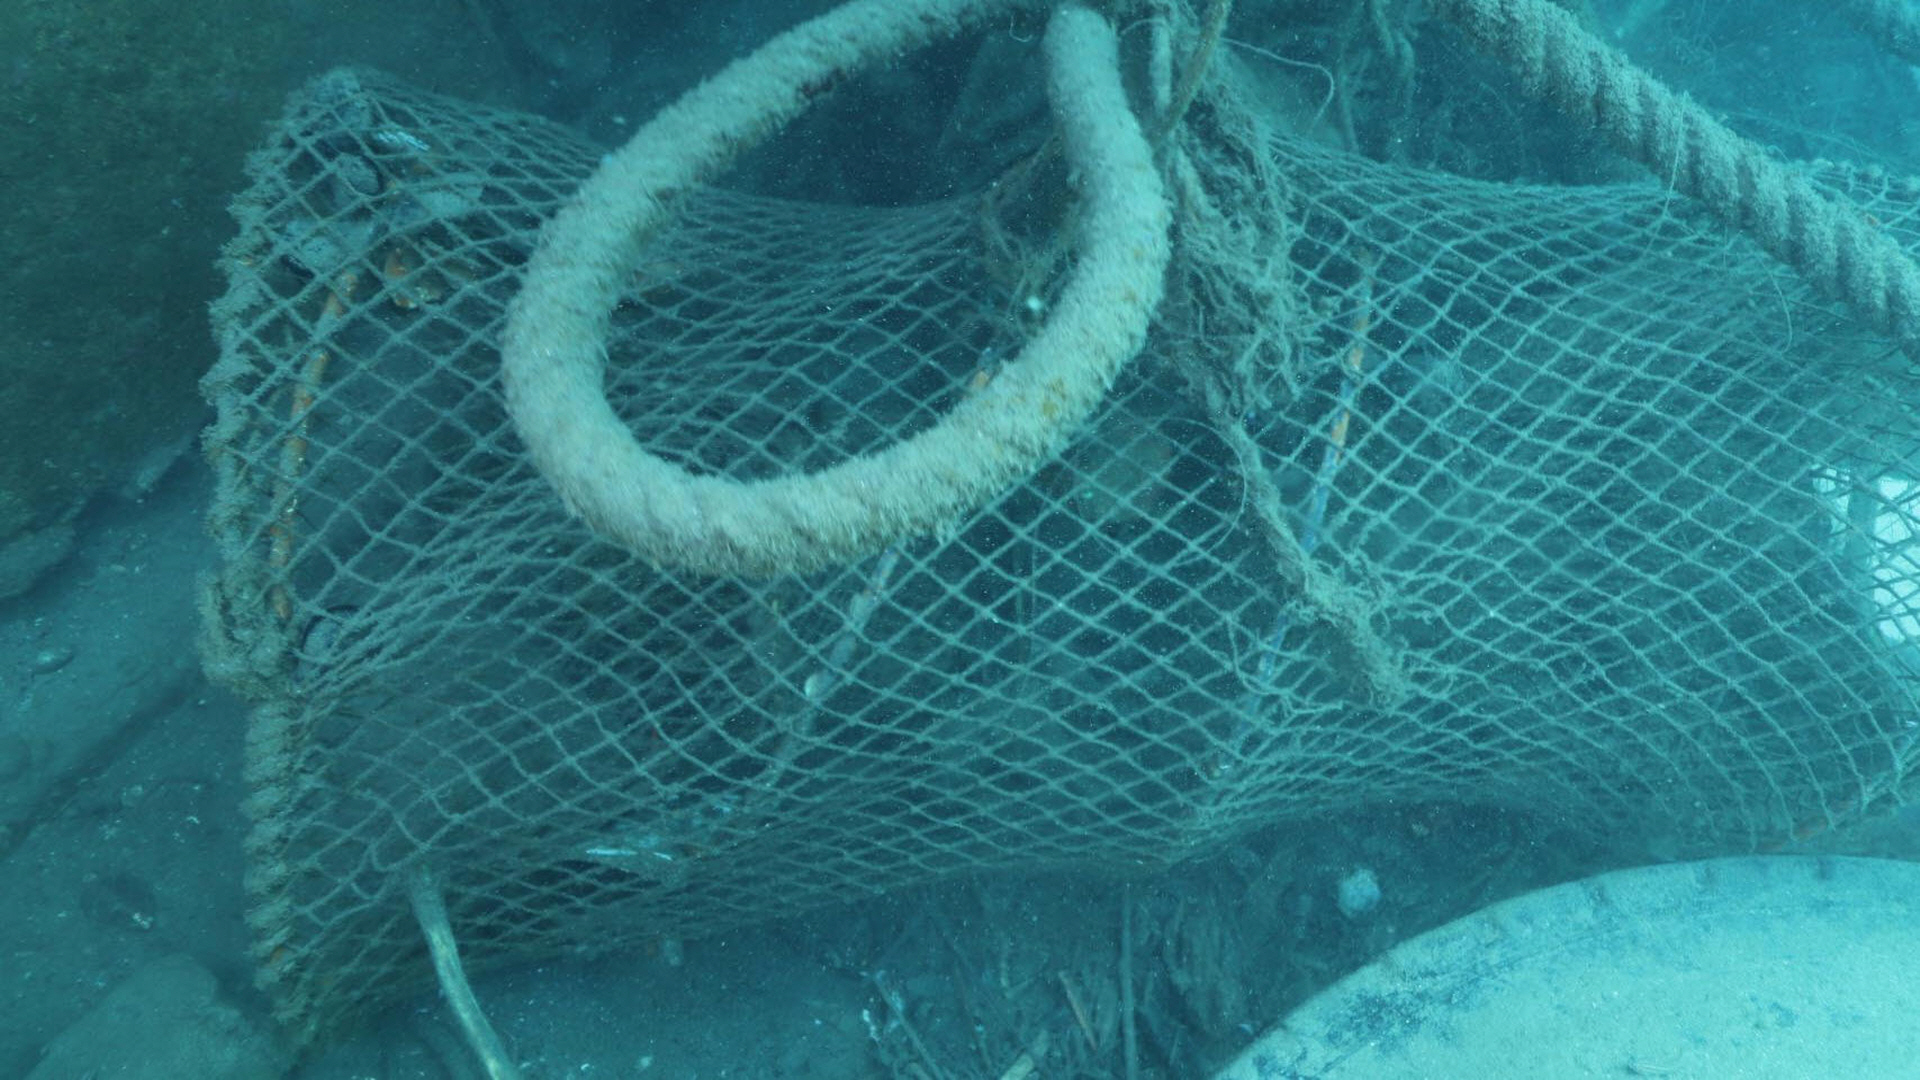rope: (495, 0, 1168, 584), (1433, 0, 1920, 365)
spring fish trap: (200, 62, 1920, 1058)
